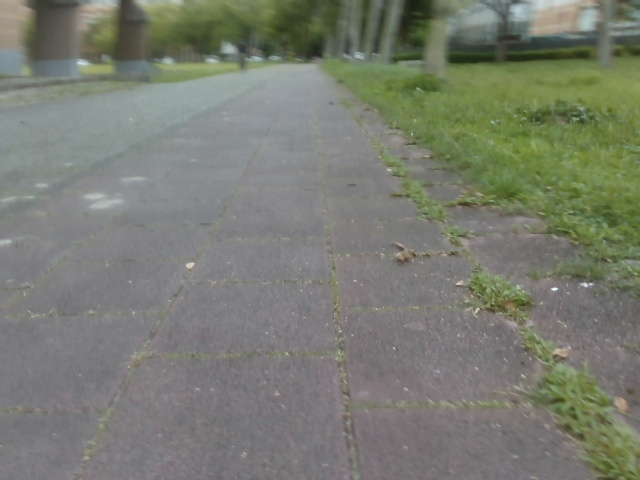grass: (314, 45, 639, 314), (137, 0, 471, 87), (0, 61, 281, 104), (596, 0, 639, 66)
road: (0, 65, 639, 479)
